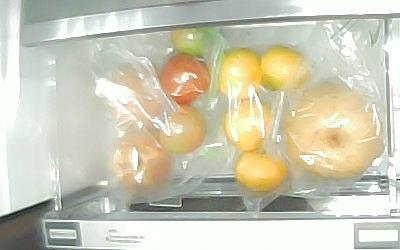peach_vinyl: (99, 66, 163, 130), (111, 133, 172, 192)
pear_vinyl: (281, 83, 383, 178)
tangerine_vinyl: (223, 96, 270, 151), (260, 45, 311, 91), (233, 149, 287, 192), (219, 48, 260, 100)
tomato_vinyl: (158, 52, 213, 106), (154, 103, 207, 156), (169, 27, 215, 60)
